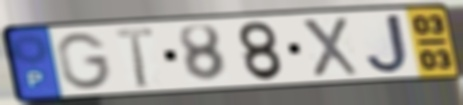8: (177, 23, 226, 86), (236, 20, 285, 82)
G: (54, 31, 115, 91)
J: (363, 12, 412, 76)
T: (112, 25, 157, 90)
X: (298, 16, 362, 79)
